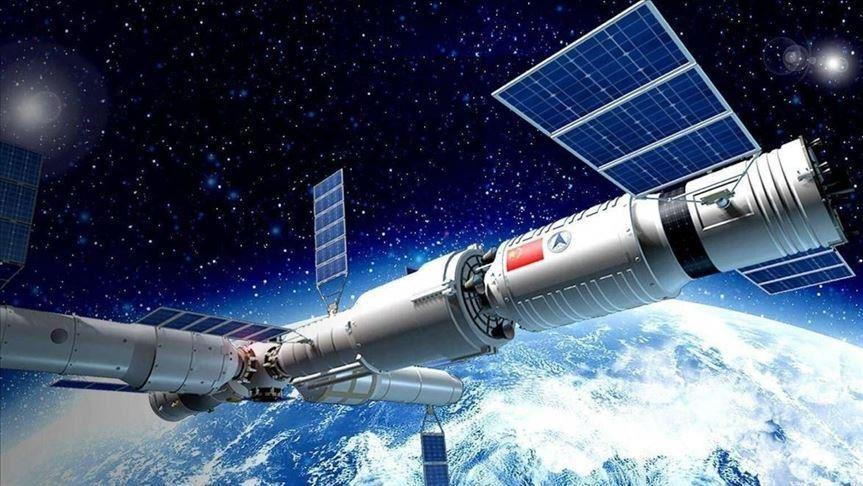body: (482, 132, 852, 338), (274, 244, 523, 387), (102, 314, 244, 401), (292, 362, 466, 407), (237, 340, 297, 403), (147, 390, 251, 424)
solar: (488, 0, 764, 200), (132, 304, 298, 350), (733, 242, 859, 298), (0, 135, 48, 271), (311, 165, 351, 289), (48, 377, 154, 396), (420, 430, 452, 486)
thruster: (490, 319, 517, 342), (462, 273, 487, 296), (480, 245, 499, 267), (806, 136, 825, 149), (816, 160, 831, 172)
